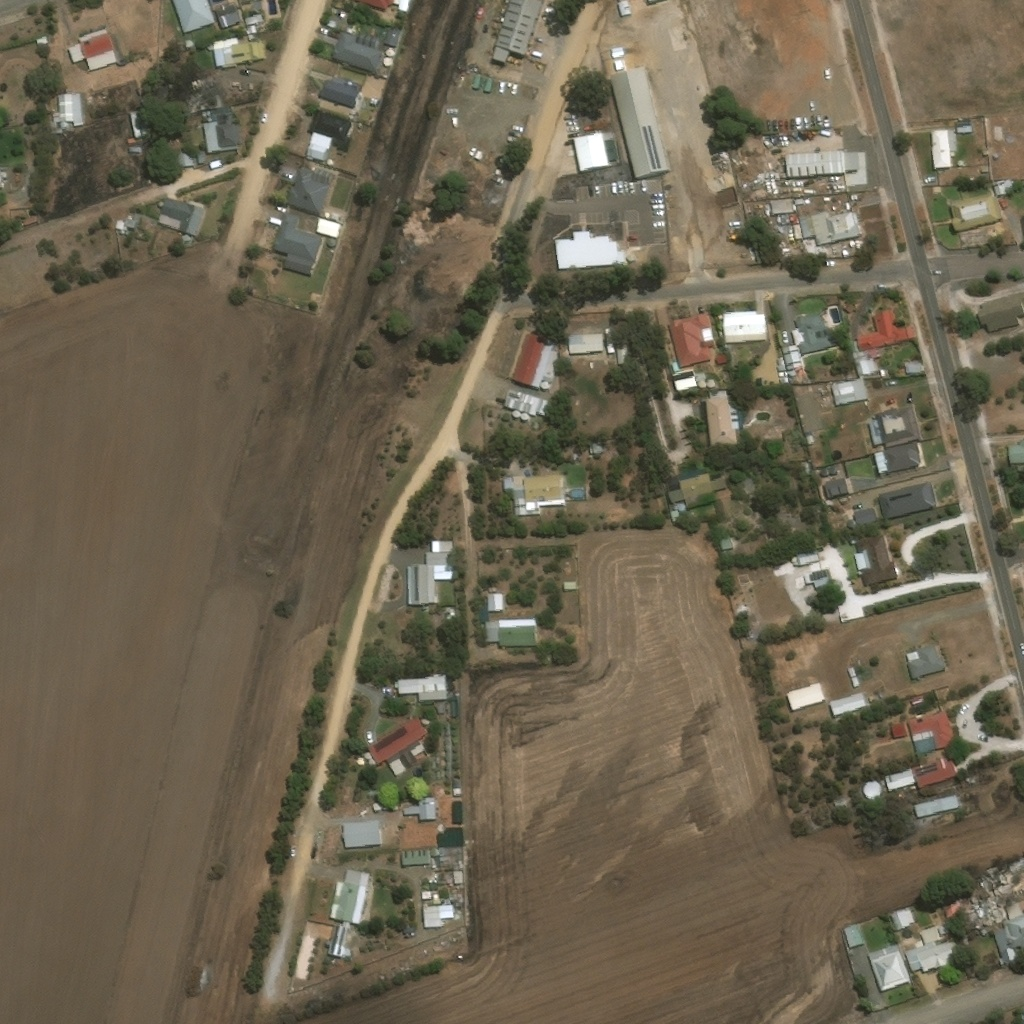0 no-damage: (608, 67, 671, 181), (324, 868, 370, 957), (366, 714, 427, 776), (272, 211, 325, 276), (305, 109, 356, 164), (857, 309, 913, 359), (884, 754, 959, 791), (903, 925, 958, 974), (556, 230, 622, 269), (668, 312, 713, 368), (511, 332, 553, 389), (408, 552, 453, 605), (947, 192, 1005, 233), (799, 209, 861, 246), (287, 166, 334, 214), (866, 406, 921, 447), (907, 709, 957, 754), (854, 535, 897, 585), (669, 472, 727, 509), (330, 31, 382, 72), (785, 150, 858, 179), (68, 28, 117, 71), (704, 391, 740, 448), (879, 482, 935, 518), (516, 475, 565, 515), (207, 36, 266, 69), (198, 107, 240, 153), (157, 194, 204, 235), (976, 291, 1023, 332), (791, 306, 830, 354), (870, 950, 910, 993), (485, 618, 539, 649), (573, 131, 608, 175), (993, 915, 1023, 966), (906, 645, 948, 681), (873, 443, 921, 474), (721, 310, 765, 343), (50, 92, 85, 133), (397, 674, 447, 702), (319, 78, 361, 110), (786, 681, 827, 712), (503, 389, 548, 417), (913, 792, 960, 818), (829, 692, 867, 719), (930, 129, 955, 170), (502, 477, 526, 519), (830, 379, 867, 406), (423, 899, 456, 928), (211, 1, 241, 30), (938, 168, 979, 186), (568, 333, 603, 354), (825, 477, 854, 499), (129, 109, 148, 141), (890, 907, 914, 932), (803, 569, 831, 590), (842, 925, 863, 951), (671, 371, 698, 391), (316, 217, 341, 238), (401, 849, 429, 866), (438, 827, 462, 846), (783, 345, 801, 369), (854, 507, 877, 524), (796, 549, 819, 566), (854, 359, 876, 376), (1008, 440, 1023, 464), (487, 592, 503, 614), (770, 200, 793, 215), (383, 29, 401, 48), (863, 781, 882, 799), (891, 721, 908, 740), (615, 342, 629, 365), (429, 539, 453, 552), (956, 119, 972, 135), (124, 213, 139, 230), (245, 13, 263, 26), (993, 182, 1008, 197), (178, 153, 193, 167), (903, 362, 922, 373), (720, 535, 733, 551), (587, 442, 602, 455), (608, 48, 624, 60), (115, 219, 127, 235), (562, 581, 579, 592), (447, 701, 458, 716), (398, 925, 414, 935), (612, 60, 625, 72), (909, 695, 923, 705), (793, 224, 802, 239), (715, 353, 727, 364), (849, 676, 860, 688), (846, 666, 857, 678), (23, 216, 36, 226), (453, 871, 463, 884), (246, 25, 259, 35), (35, 36, 48, 45), (195, 151, 204, 164), (778, 357, 786, 371), (382, 57, 393, 67), (540, 381, 551, 391), (520, 412, 530, 422), (511, 409, 521, 419), (670, 511, 679, 522), (452, 787, 462, 796), (422, 890, 432, 899), (829, 466, 839, 475), (129, 146, 140, 154), (427, 876, 439, 883), (369, 97, 378, 106), (184, 40, 193, 49), (385, 48, 395, 56), (331, 211, 339, 220), (1004, 179, 1012, 188), (699, 379, 707, 388), (820, 469, 829, 477), (676, 503, 685, 511), (625, 236, 636, 242), (327, 239, 335, 247), (847, 520, 855, 528), (365, 752, 373, 760), (60, 121, 68, 129), (182, 234, 190, 242), (707, 381, 716, 388), (369, 758, 376, 766), (231, 81, 240, 87), (956, 160, 965, 166), (991, 153, 998, 160), (982, 151, 988, 158), (248, 83, 253, 91), (998, 959, 1003, 966), (672, 506, 678, 511), (236, 86, 241, 91), (951, 151, 955, 156)
1 minor-damage: (357, 122, 363, 128)
2 major-damage: (979, 928, 988, 937), (116, 58, 124, 66)
3 destroyed: (970, 874, 1004, 926), (200, 95, 221, 110), (135, 87, 147, 98)
4 un-classified: (353, 0, 392, 12), (393, 0, 410, 11), (815, 388, 823, 397), (0, 172, 6, 183), (934, 126, 939, 131), (929, 127, 934, 132)
